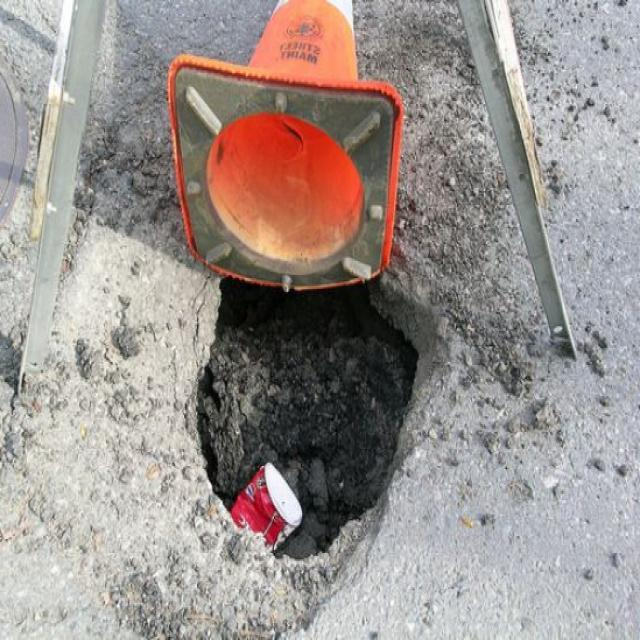Pothole: (192, 273, 434, 562)
